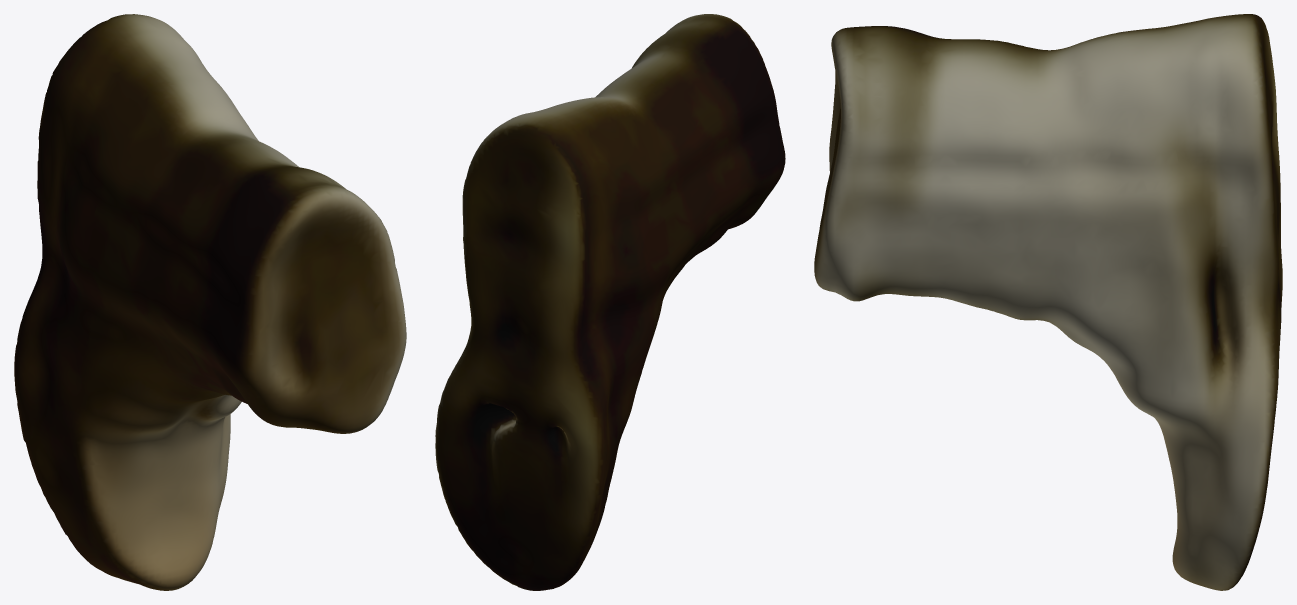
File: shoe1.glb
The picture shows the model from 3 angles, left to right: view 1: azimuth 30°, elevation 25°; view 2: azimuth 150°, elevation 25°; view 3: azimuth 270°, elevation 25°; orthographic projection. The views are drawn at different scales.
Size of the model in its own units: 0.3798 by 0.9995 by 0.7642.
